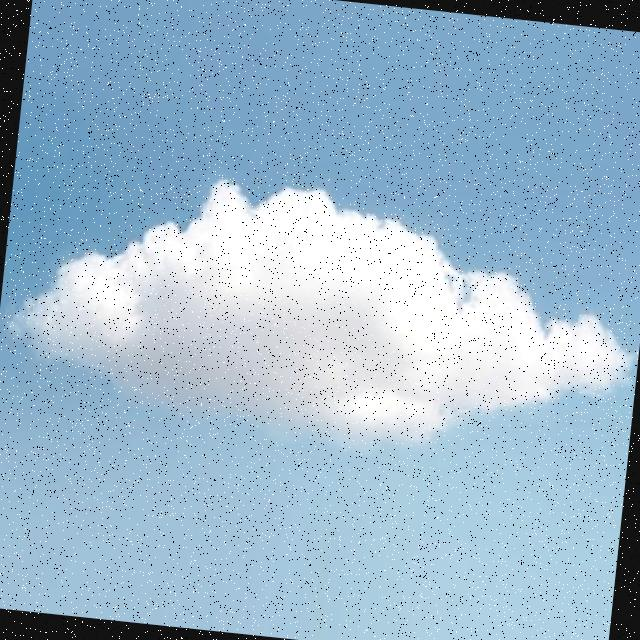Cu: (1, 120, 640, 505)
